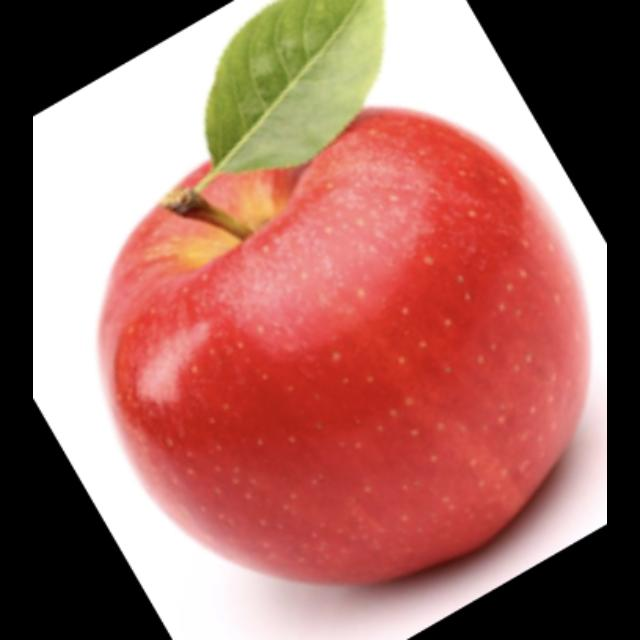Apel Segar: (81, 91, 606, 597)
